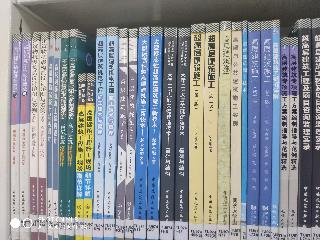book-spine: (161, 27, 177, 239), (189, 24, 204, 239), (103, 27, 118, 239), (174, 27, 189, 238), (204, 23, 218, 239), (135, 27, 149, 239), (93, 28, 107, 239), (218, 21, 231, 238), (148, 27, 161, 239), (125, 29, 137, 239), (299, 20, 310, 239), (116, 28, 127, 240), (231, 22, 241, 239), (248, 22, 258, 239), (260, 22, 270, 239), (21, 33, 31, 239), (288, 37, 298, 239), (67, 29, 76, 239), (12, 34, 21, 240), (60, 30, 68, 239), (31, 32, 39, 240), (39, 32, 47, 240), (76, 74, 86, 238), (85, 75, 95, 238), (280, 37, 288, 238), (272, 19, 279, 238), (313, 20, 320, 239), (48, 32, 55, 239), (54, 32, 60, 239), (242, 21, 247, 239)
